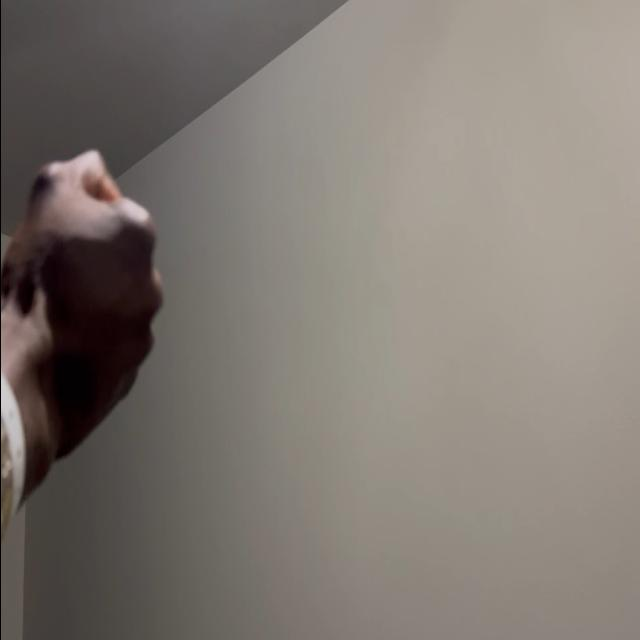Rock: (4, 150, 161, 459)
